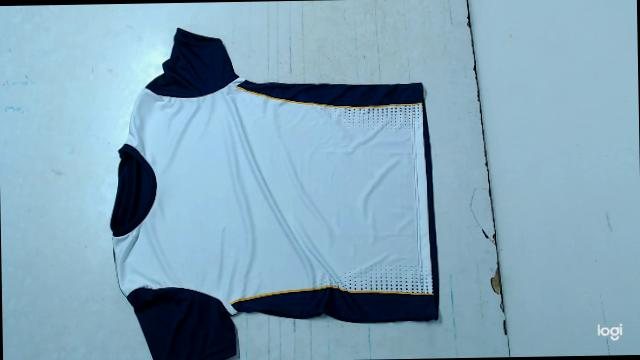new-garment: (110, 28, 438, 360)
